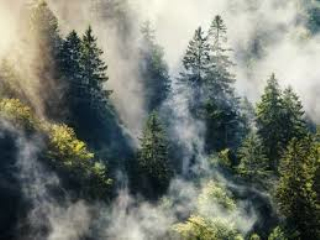smoke: (10, 122, 147, 237), (158, 87, 215, 209)
